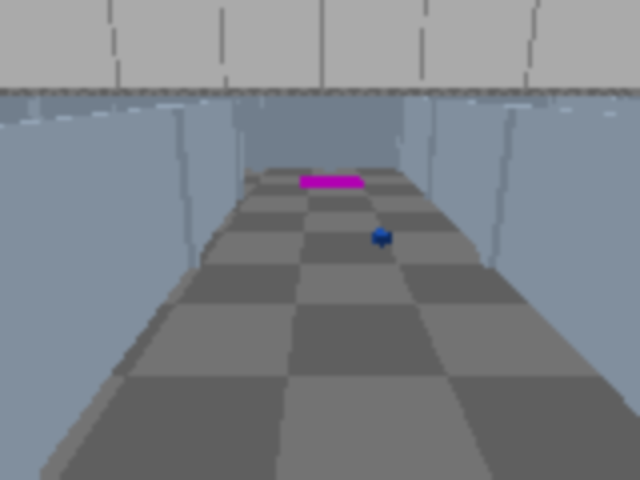goal_zone: (299, 176, 366, 189)
puck: (373, 230, 390, 246)
